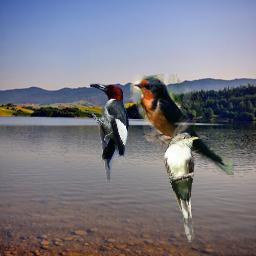Cuckoo: (164, 132, 200, 243)
Swallow: (130, 74, 234, 175)
Woodpecker: (90, 83, 129, 182)
